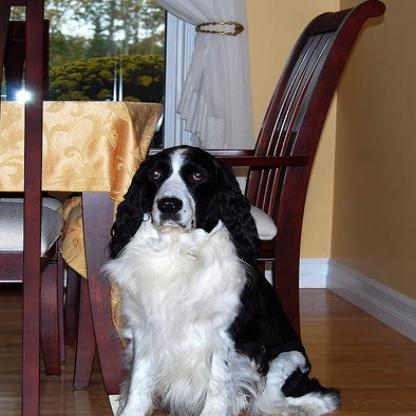English_springer: (94, 140, 345, 414)
